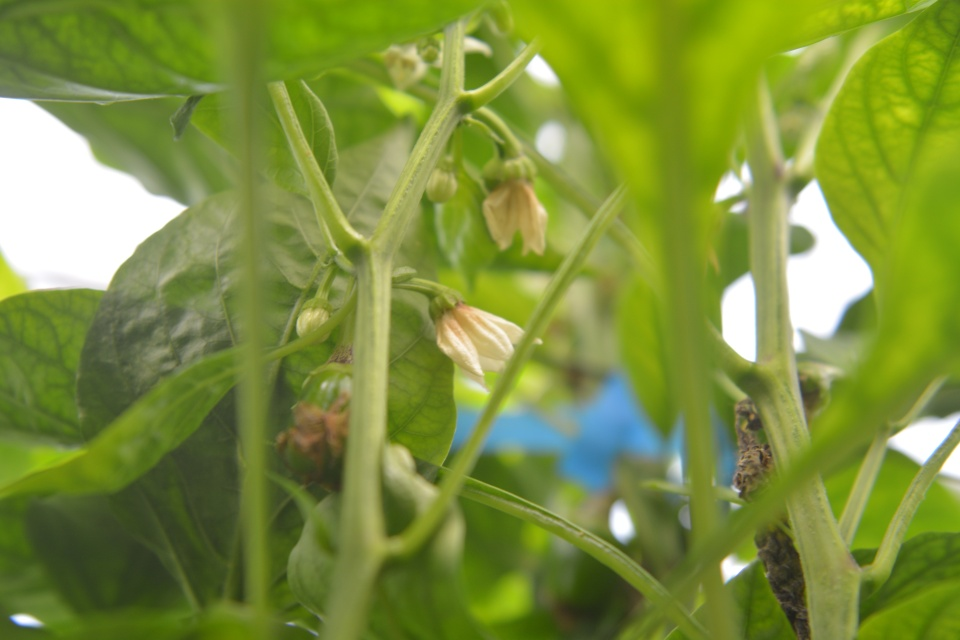flower: (432, 297, 545, 396)
immature: (274, 356, 365, 491)
